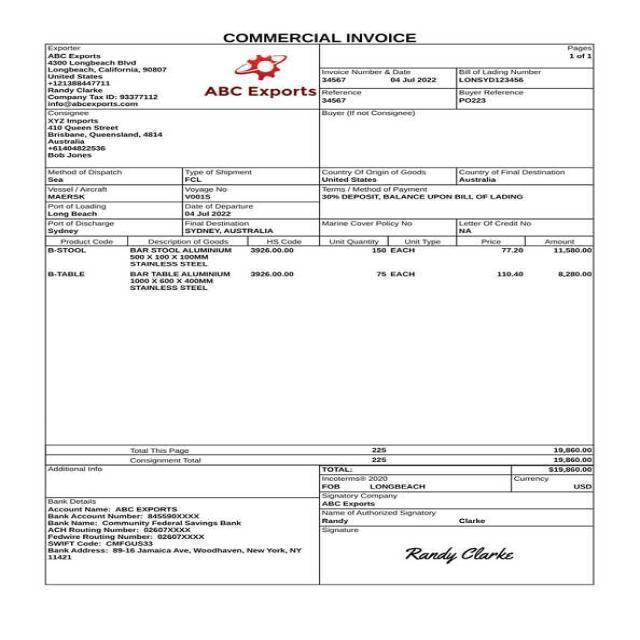ROI: (43, 236, 595, 292), (43, 465, 308, 570), (319, 466, 593, 567), (44, 167, 282, 235), (125, 443, 596, 465), (45, 44, 171, 108), (44, 110, 167, 161), (203, 50, 319, 99), (322, 67, 456, 109), (319, 166, 572, 185), (320, 186, 526, 209), (320, 218, 535, 235), (459, 66, 544, 108), (221, 30, 422, 44), (320, 109, 422, 118), (565, 40, 596, 62)
